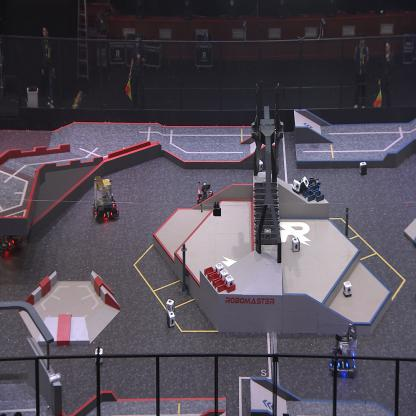car: (330, 323, 358, 378), (92, 175, 119, 223), (0, 210, 22, 258), (300, 175, 322, 218), (196, 181, 214, 212)
